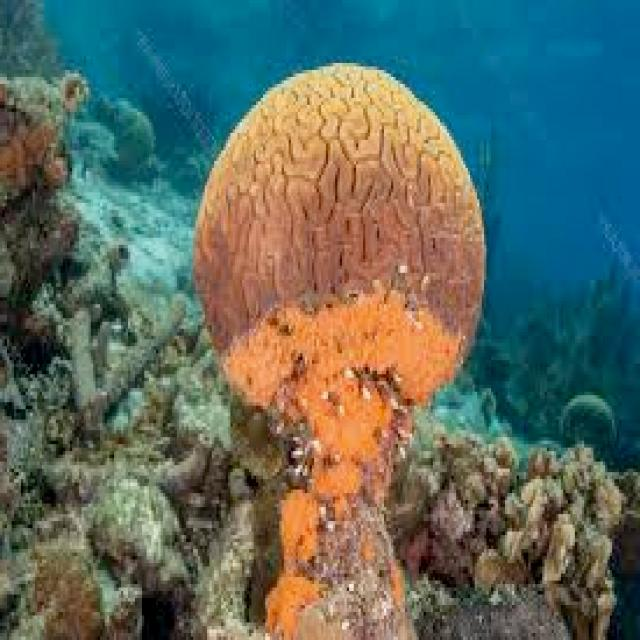Coral: (192, 62, 487, 640)
